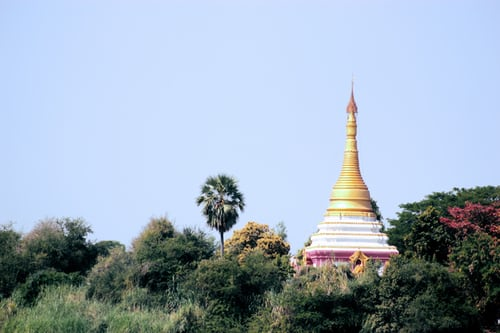Temple: (297, 82, 408, 276)
